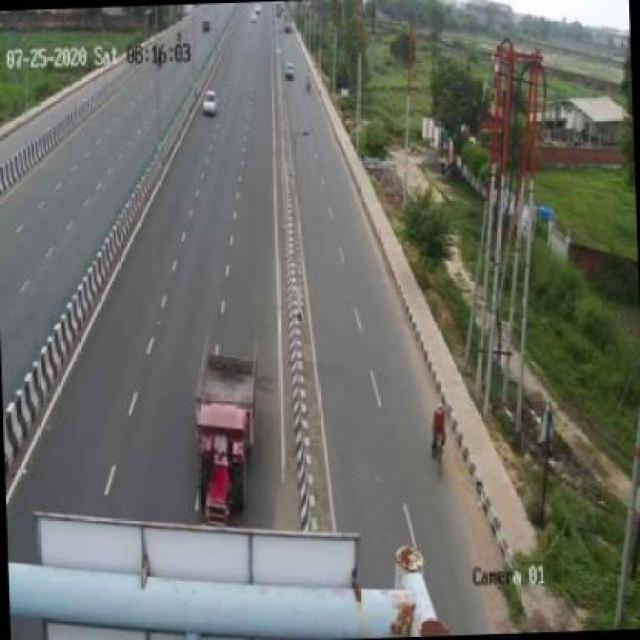car: (200, 86, 222, 117)
